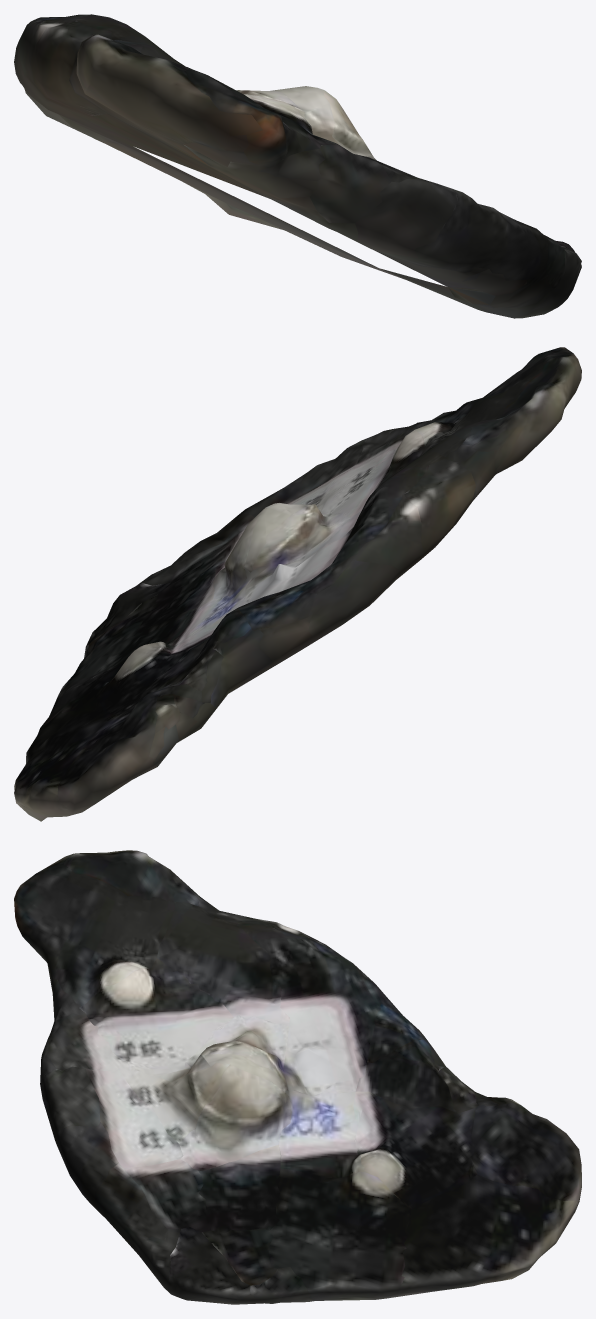
File: hall.glb
3 views of the same model, one above another, from view 1: azimuth 30°, elevation 25°; view 2: azimuth 150°, elevation 25°; view 3: azimuth 270°, elevation 25° (orthographic). The views are drawn at different scales.
Size of the model in its own units: 0.518 by 0.4185 by 0.6962.
1 material, 1 textured.
